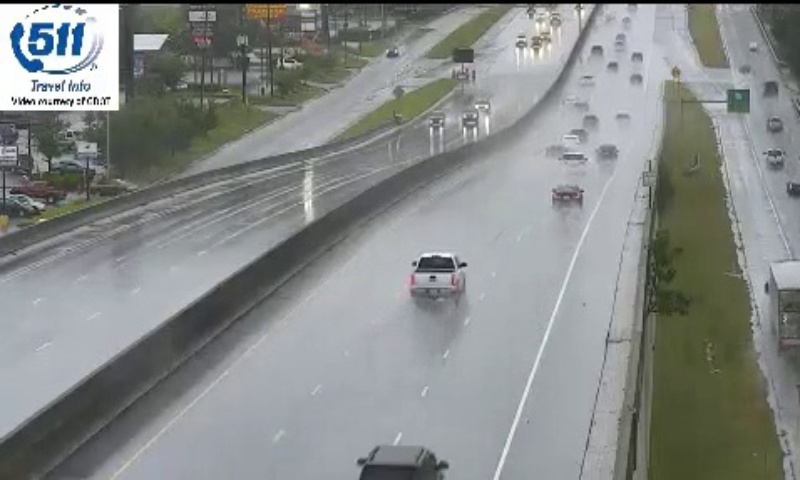car: (412, 253, 466, 297), (550, 180, 583, 208)
